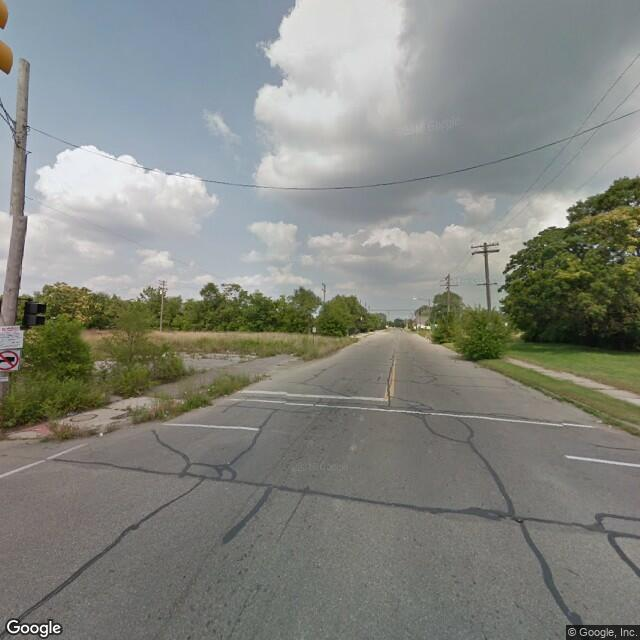litter: (595, 417, 608, 424), (97, 431, 106, 437)
